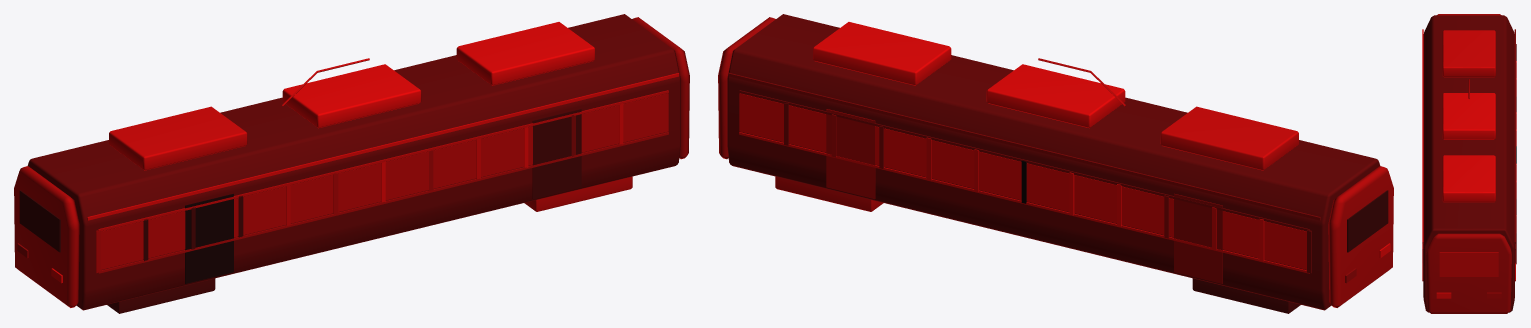
Rendered from train_car.glb.
3 views of the same model, side by side, from view 1: azimuth 30°, elevation 25°; view 2: azimuth 150°, elevation 25°; view 3: azimuth 270°, elevation 25° (orthographic). The views are drawn at different scales.
Parts seen in each view (by area): view 1: train_car; view 2: train_car; view 3: train_car.
Part boxes in pixels (bbox=[...]): train_car: bbox=[14, 14, 689, 313]; train_car: bbox=[718, 14, 1393, 313]; train_car: bbox=[1422, 14, 1516, 313].
Bounding box in the file's own units: 17.98 × 4.73 × 3.18.
